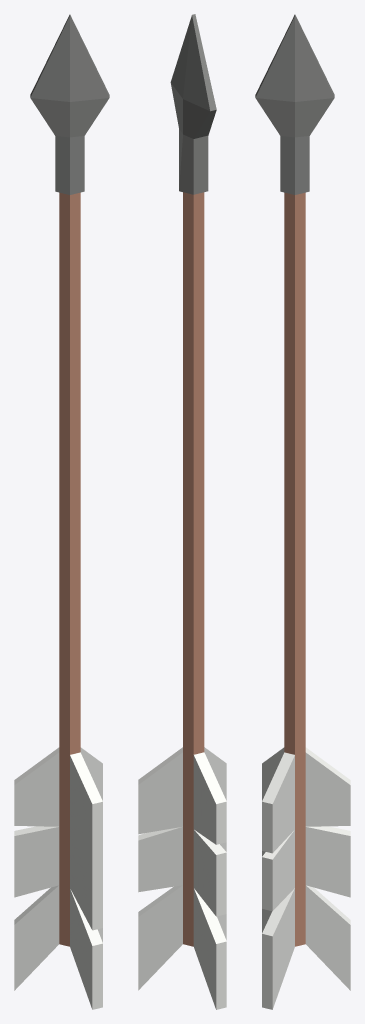
The model's file is Arrow.glb.
The picture shows the model from 3 angles, left to right: view 1: azimuth 90°, elevation 25°; view 2: azimuth 210°, elevation 25°; view 3: azimuth 270°, elevation 25°; orthographic projection.
Visible parts, largest first — view 1: Arrow; view 2: Arrow; view 3: Arrow.
Part boxes in pixels (x1,y1,x2,y2): Arrow: (14,14,109,1009); Arrow: (138,14,226,1009); Arrow: (255,14,350,1009).
Bounding box in the file's own units: 6.68 × 70.15 × 6.21.
